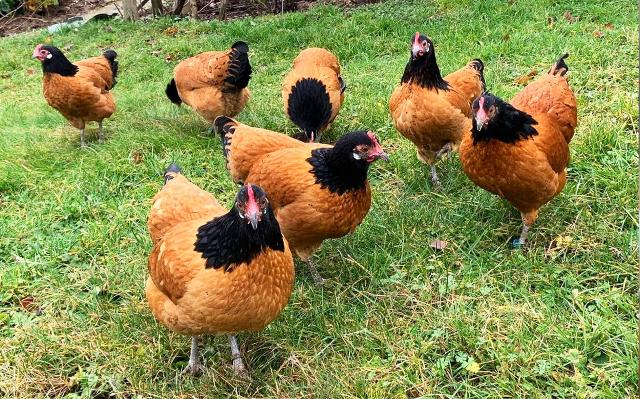Chicken: (146, 159, 296, 379), (212, 114, 391, 288), (458, 51, 579, 244), (388, 31, 487, 183), (31, 42, 121, 144), (167, 41, 252, 130), (282, 46, 345, 144)
